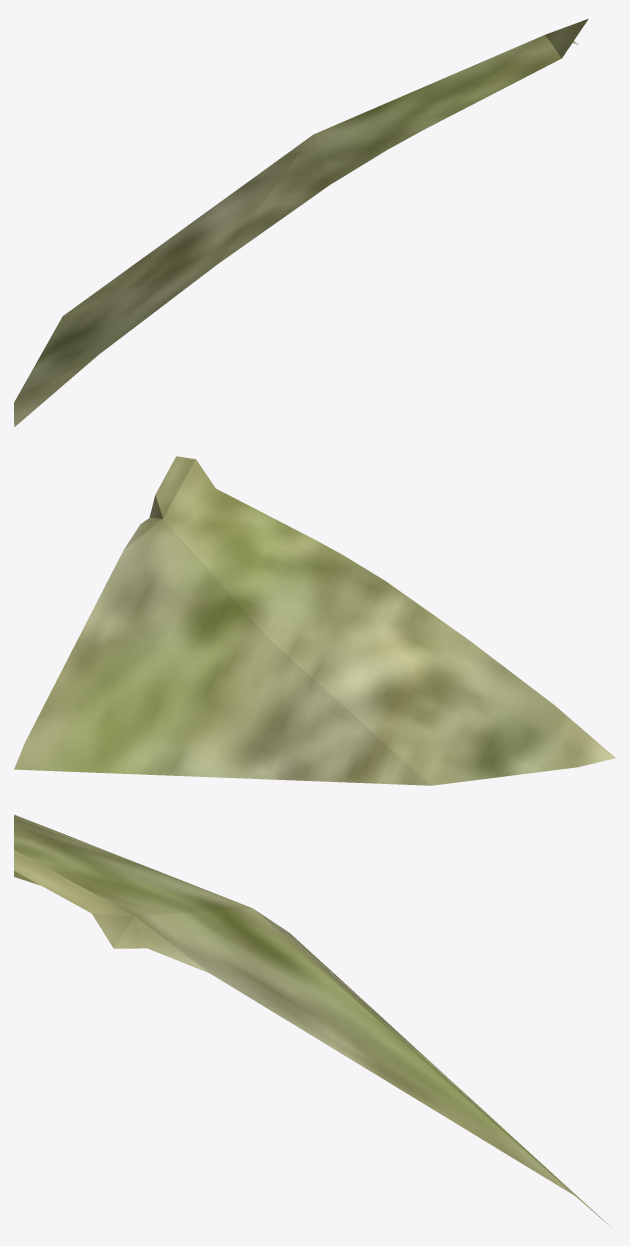
The picture shows the model from 3 angles, top to bottom: view 1: azimuth 30°, elevation 25°; view 2: azimuth 150°, elevation 25°; view 3: azimuth 270°, elevation 25°; orthographic projection. The views are drawn at different scales.
Bounding box in the file's own units: 1.11 × 0.4738 × 0.7101.
Materials: 1 (1 with a texture image).
